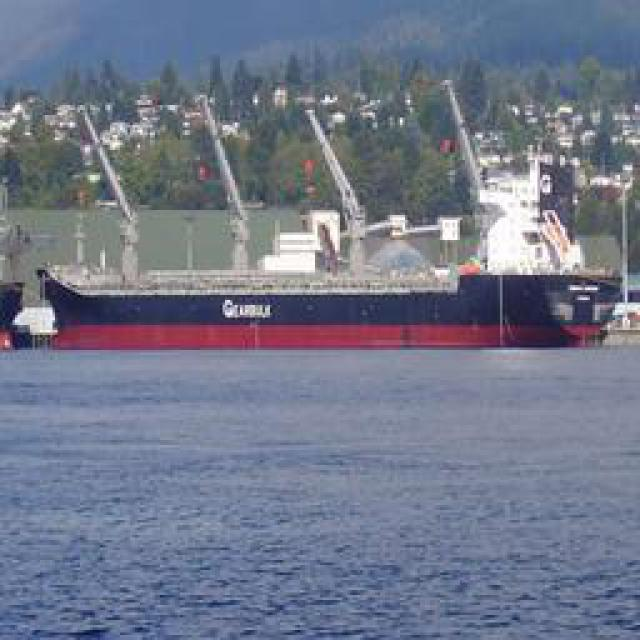Ship: (38, 62, 636, 340)
